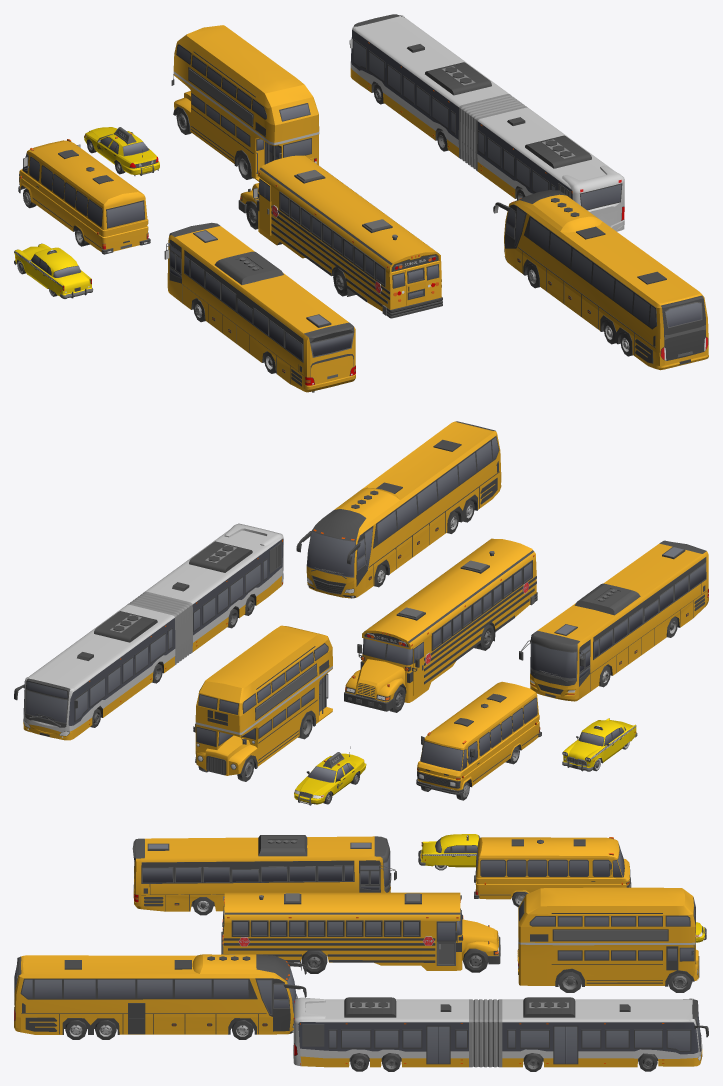
Rendered from Low_Poly_Bus_Pack.glb.
3 views of the same model, one above another, from view 1: azimuth 30°, elevation 25°; view 2: azimuth 150°, elevation 25°; view 3: azimuth 270°, elevation 25° (orthographic). The views are drawn at different scales.
Parts seen in each view (by area): view 1: Body_Textures_0 (×8), Body_Mat Body_0 (×6); view 2: Body_Textures_0 (×8), Body_Mat Body_0 (×6); view 3: Body_Textures_0 (×7), Body_Mat Body_0 (×6), Wheel FR_Textures_0, Wheel BR_Textures_0, Wheel_BR_Textures_0.
Boxes of the visible parts, bbox=[...] form: Body_Textures_0 (×8): bbox=[14, 14, 708, 392]; Body_Mat Body_0 (×6): bbox=[19, 25, 708, 392]; Body_Textures_0 (×8): bbox=[14, 421, 708, 805]; Body_Mat Body_0 (×6): bbox=[23, 421, 708, 790]; Body_Textures_0 (×7): bbox=[14, 834, 708, 1067]; Body_Mat Body_0 (×6): bbox=[14, 836, 702, 1067]; Wheel FR_Textures_0: bbox=[463, 948, 488, 972]; Wheel BR_Textures_0: bbox=[301, 950, 327, 973]; Wheel_BR_Textures_0: bbox=[558, 972, 581, 992].
Bounding box in the file's own units: 36.27 × 6.94 × 49.02.
2 materials, 1 textured.
